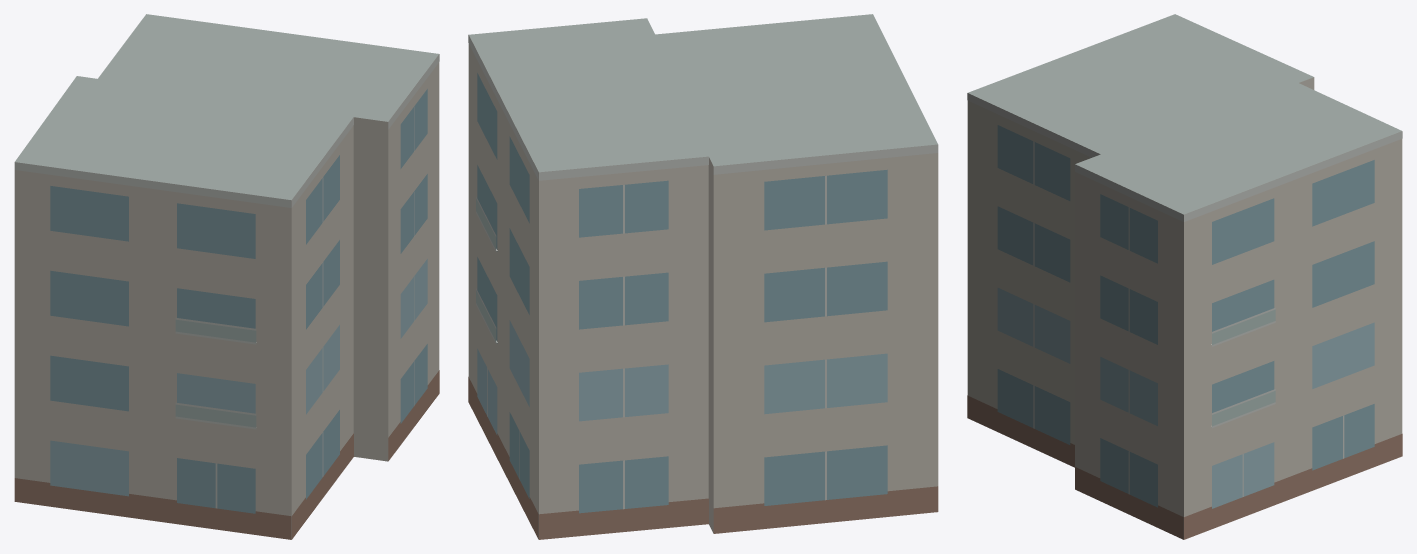
The model's file is survey-upis-32930781.glb.
The picture shows the model from 3 angles, left to right: view 1: azimuth 30°, elevation 25°; view 2: azimuth 150°, elevation 25°; view 3: azimuth 270°, elevation 25°; orthographic projection. The views are drawn at different scales.
Visible parts, largest first — view 1: survey-upis-32930781.tmp; view 2: survey-upis-32930781.tmp; view 3: survey-upis-32930781.tmp.
Part boxes in pixels (bbox=[...]): survey-upis-32930781.tmp: bbox=[14, 14, 439, 539]; survey-upis-32930781.tmp: bbox=[468, 14, 938, 539]; survey-upis-32930781.tmp: bbox=[967, 14, 1402, 539].
Size of the model in its own units: 13.97 by 10.55 by 12.8.
